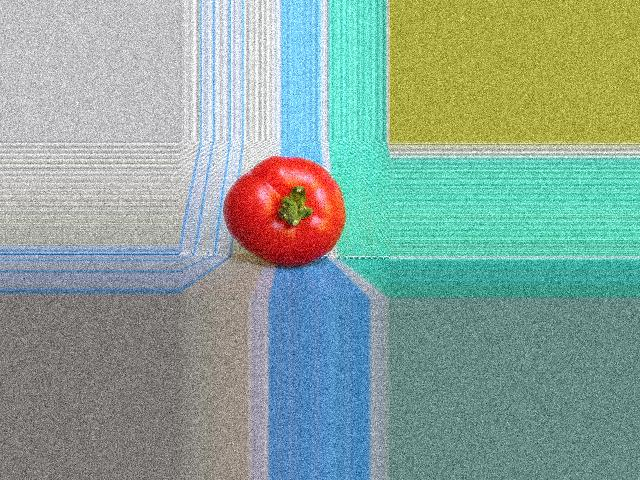tomato: (224, 156, 345, 267)
